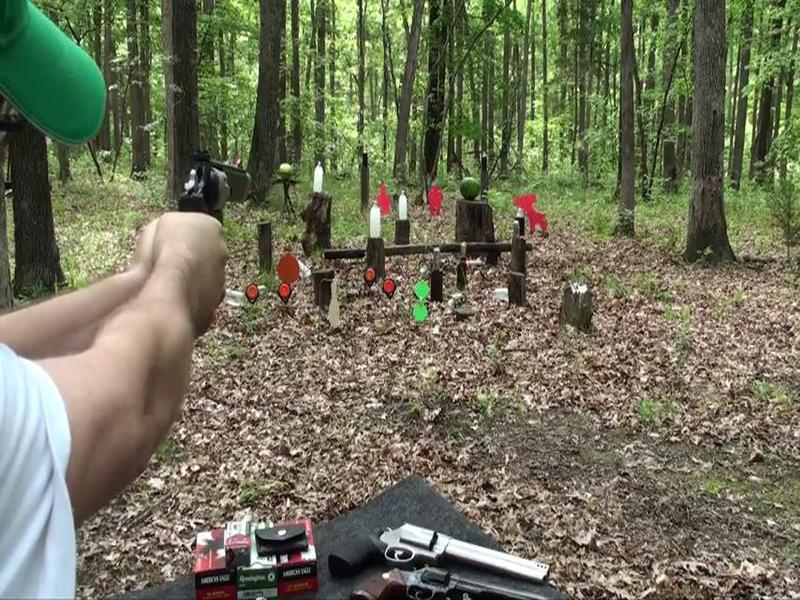Revolver: (164, 140, 282, 254)
